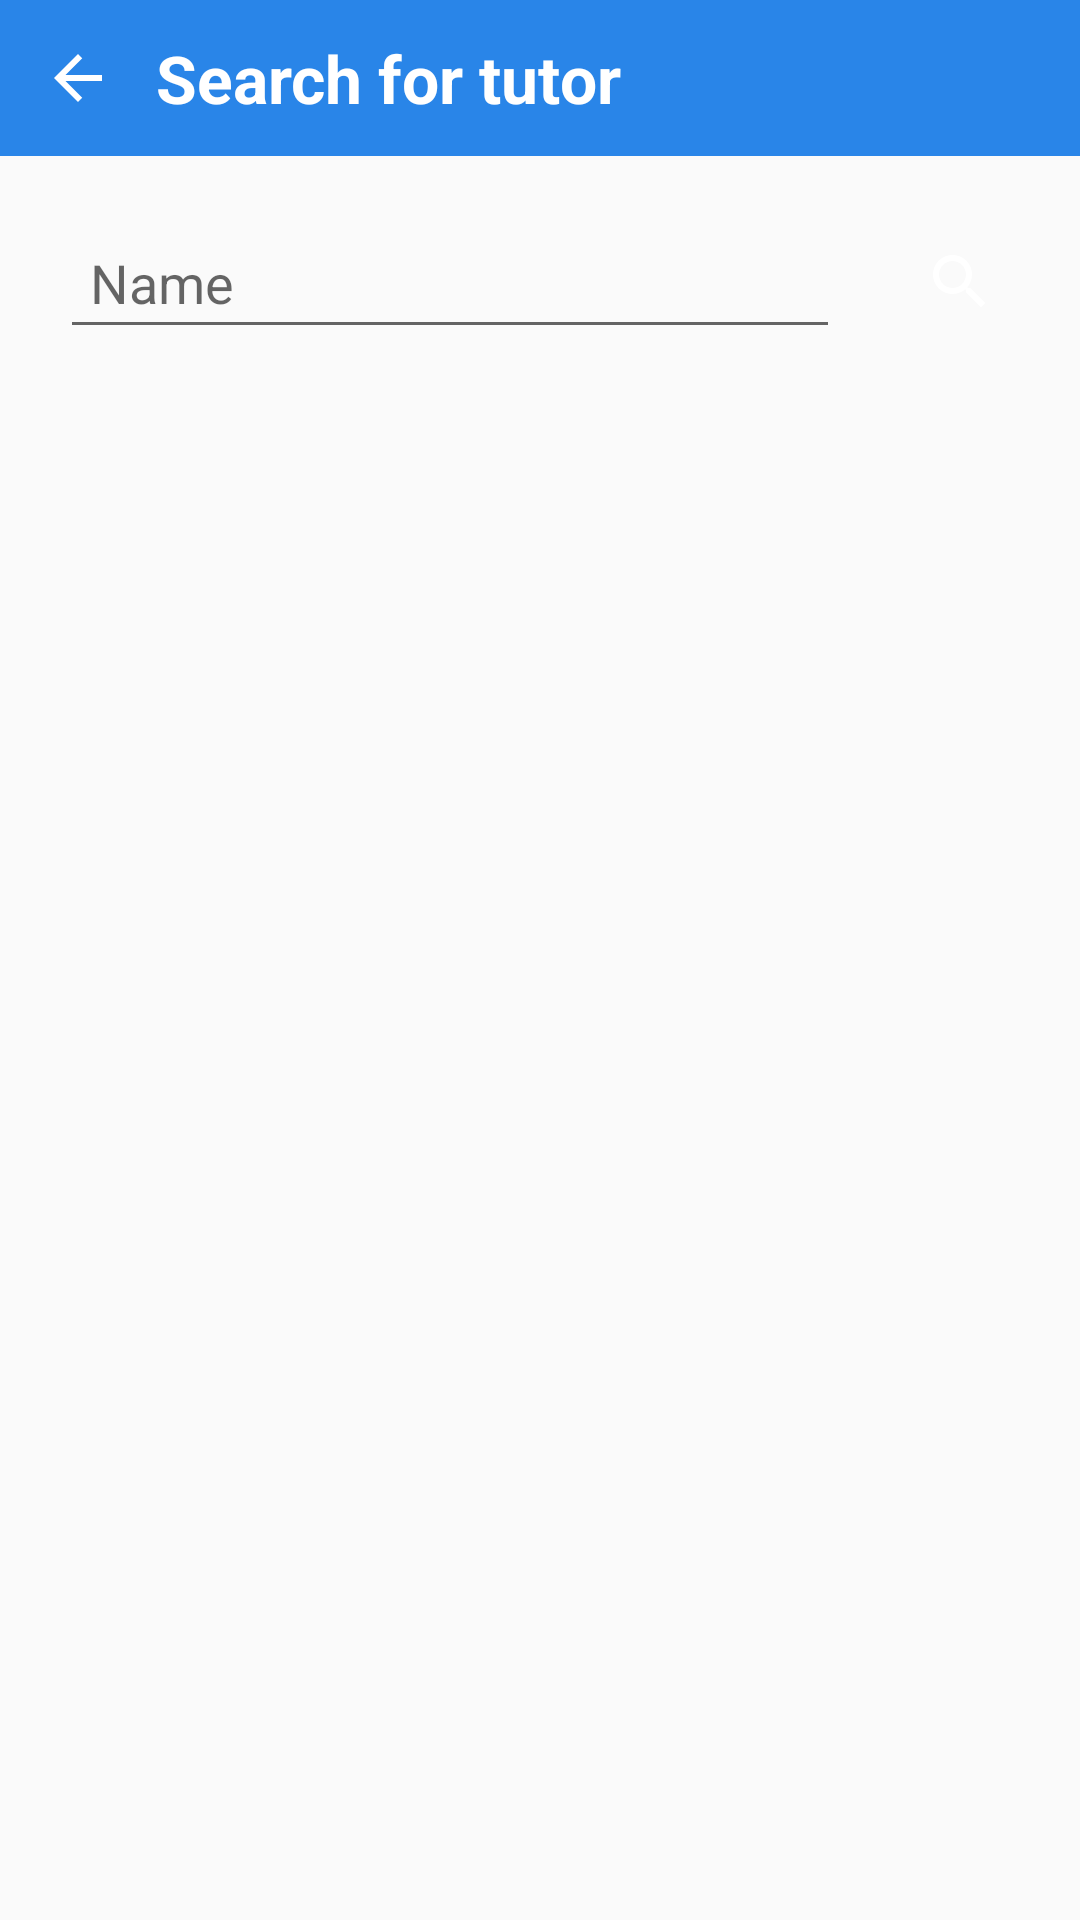

Where icons sit on this 1080*1920 app screen, as (x1, y1, x2, y2):
back arrow: (54, 54, 102, 102)
